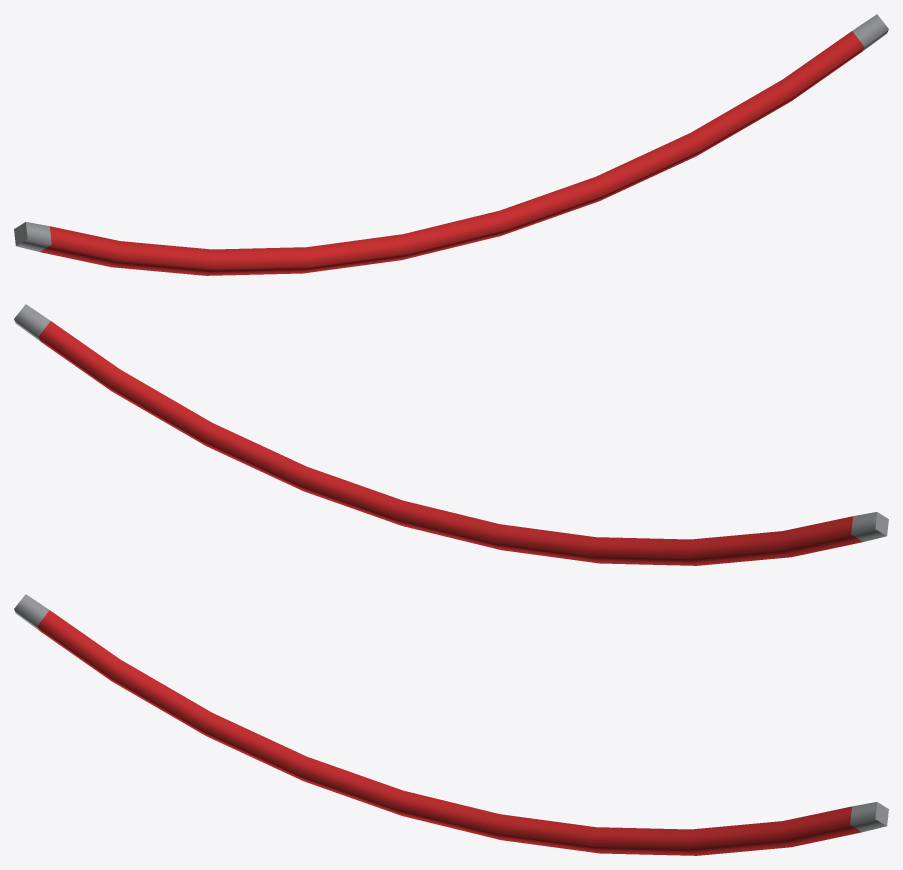
Rendered from Fence_09.obj.
3 renders of one model, top to bottom at view 1: azimuth 30°, elevation 25°; view 2: azimuth 150°, elevation 25°; view 3: azimuth 330°, elevation 25°, orthographic.
Visible parts, largest first — view 1: Fence_09; view 2: Fence_09; view 3: Fence_09.
Boxes of the visible parts, box(x1,y1,x2,y2) form: Fence_09: box(14, 14, 888, 275); Fence_09: box(14, 304, 888, 565); Fence_09: box(14, 594, 888, 855).
Size of the model in its own units: 1.92 by 0.2738 by 0.0549.
1 material, 1 textured.
